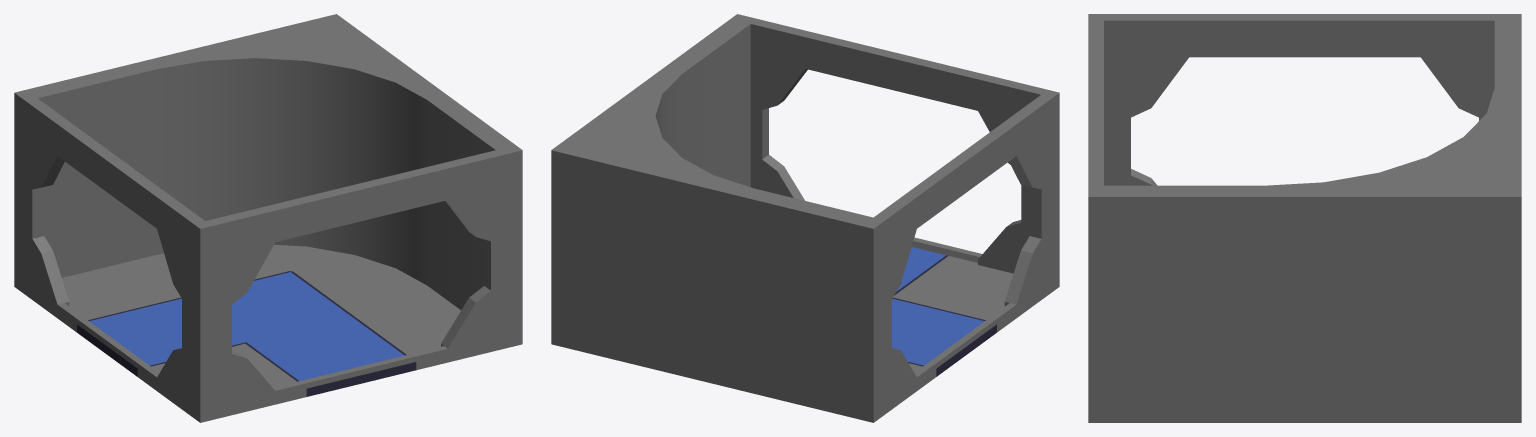
The model's file is Path_L_left.glb.
3 views of the same model, side by side, from view 1: azimuth 30°, elevation 25°; view 2: azimuth 150°, elevation 25°; view 3: azimuth 270°, elevation 25° (orthographic). The views are drawn at different scales.
Visible parts, largest first — view 1: Path_L_left; view 2: Path_L_left; view 3: Path_L_left.
Part boxes in pixels (bbox=[...]): Path_L_left: bbox=[14, 14, 522, 422]; Path_L_left: bbox=[551, 14, 1059, 422]; Path_L_left: bbox=[1088, 14, 1521, 422].
Bounding box in the file's own units: 8 × 4.6 × 8.
